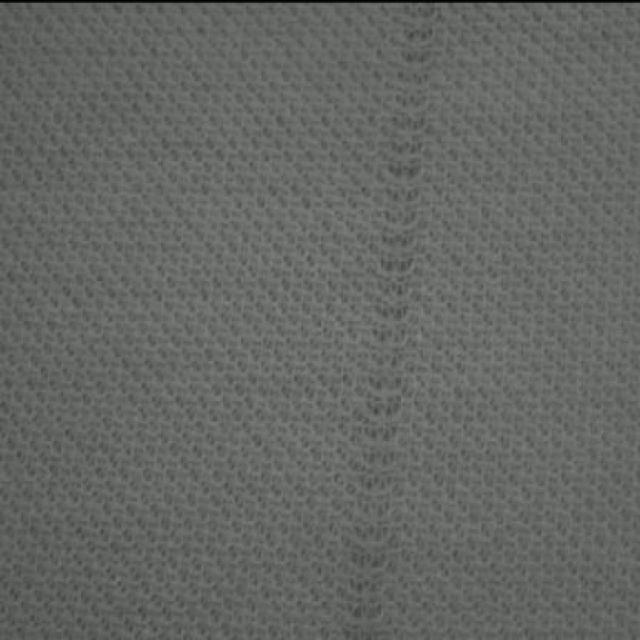Line: (337, 5, 444, 640)
